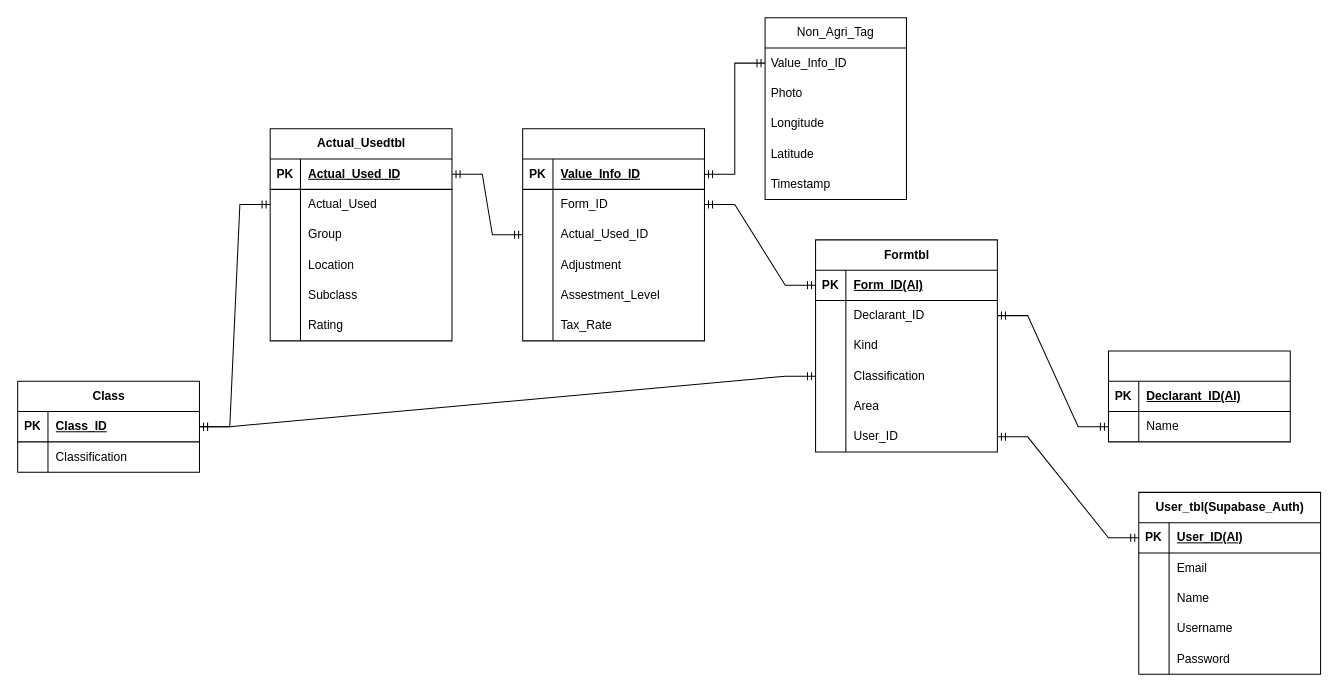
This 1338x692 diagram has some shape labels left out. The shapes that lost their labels are listed below. From the top down, each one's box as (x1, y1, x2, y2) in pixels, then its label:
(522, 128, 704, 341): Value_Infotbl
(1107, 350, 1290, 442): Declaranttbl
